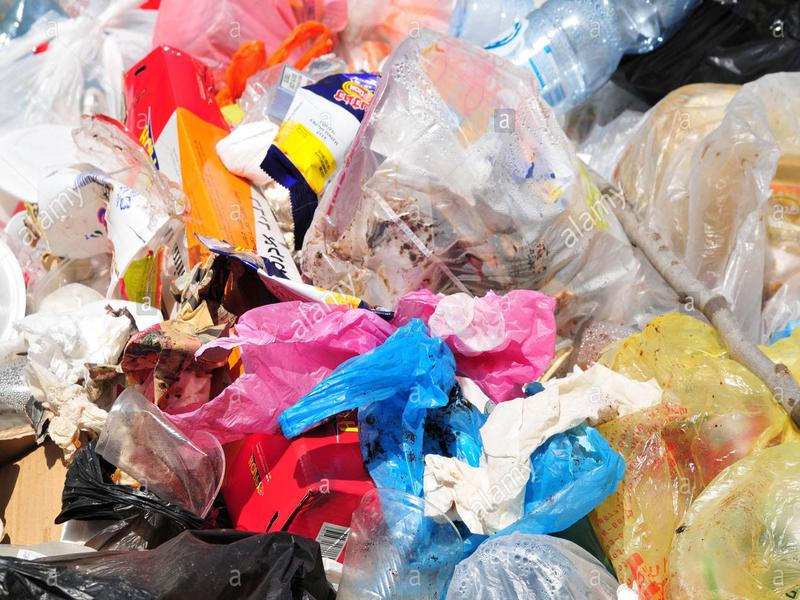cup: (85, 387, 238, 522)
plastic: (302, 23, 672, 307), (580, 316, 800, 600), (279, 322, 484, 538), (161, 299, 394, 437), (681, 69, 800, 337), (1, 520, 345, 600), (394, 274, 562, 405)
